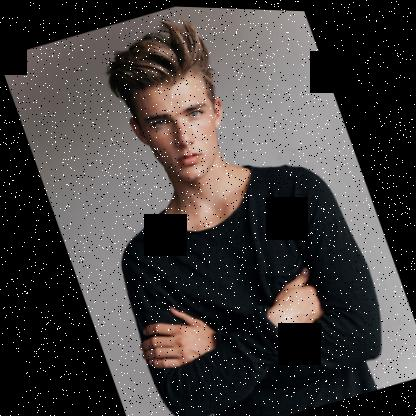Male: (117, 60, 240, 190)
